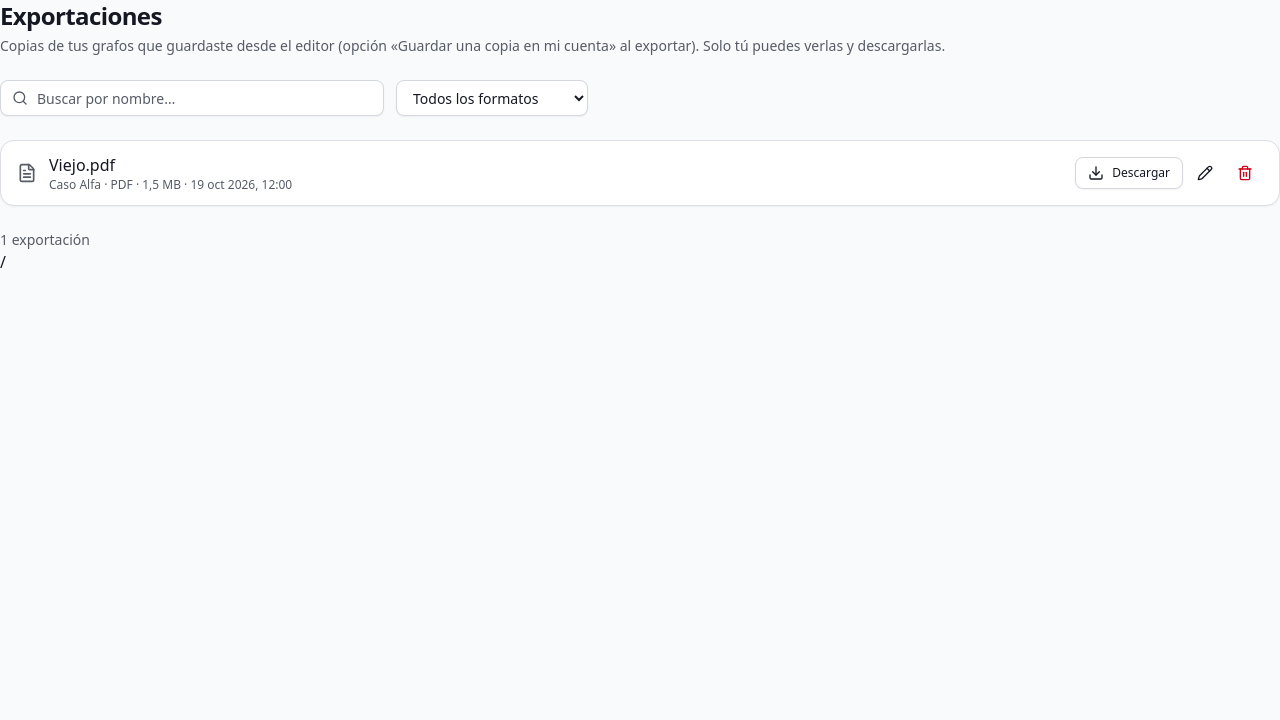
ExportsPage › renombrar envía solo el nombre nuevo (sin extensión) y refresca la lista
The width and height of the screenshot is (1280, 720).
Click the button named "Renombrar Viejo.pdf" at (1205, 173), box [1187,155,1223,191]
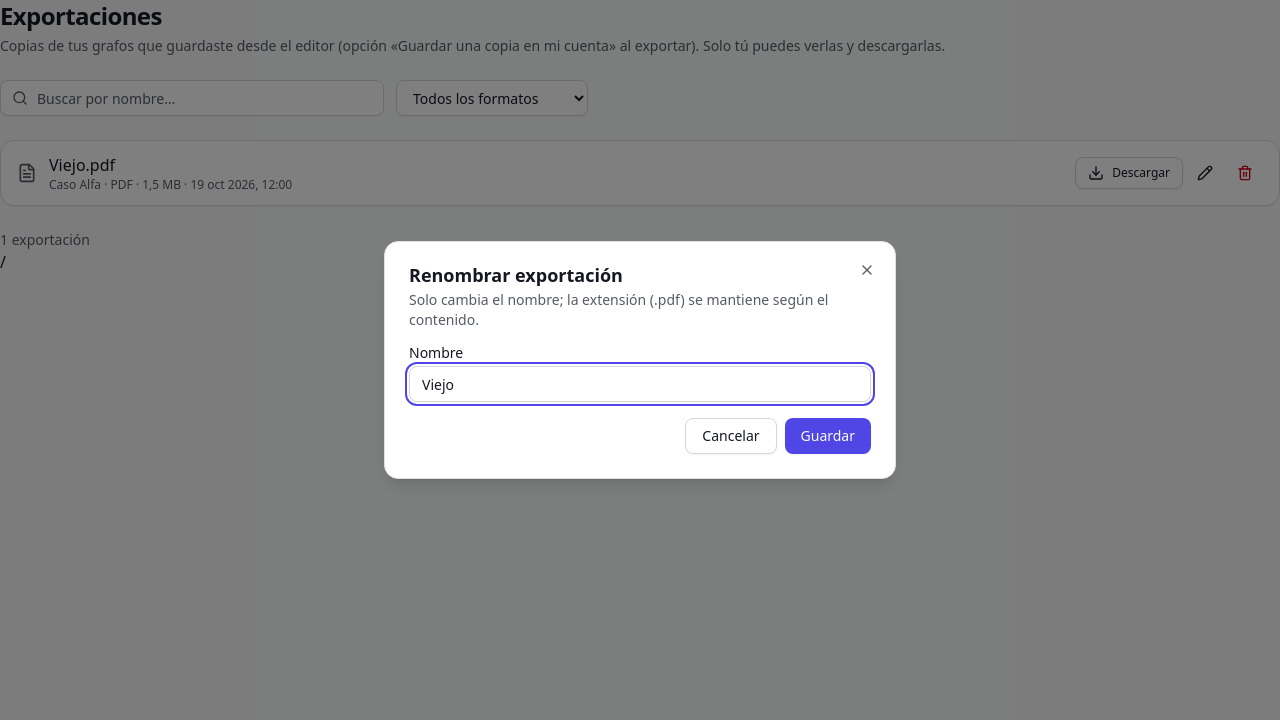
Expected: the field labelled "Nombre" holds "Viejo"
Replace the text in the field labelled "Nombre" with "  Nuevo  " at (640, 384), box [409,366,871,402]
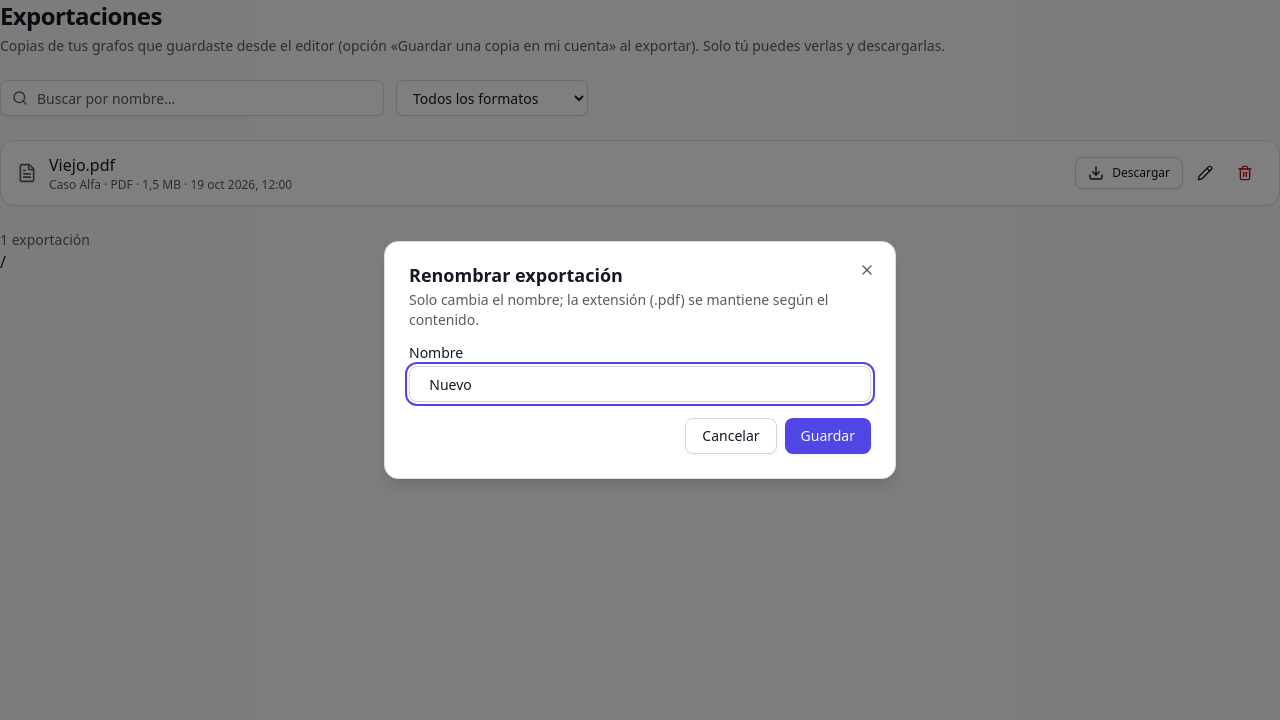
Click the button "Guardar" at (828, 436), box [784,418,871,454]
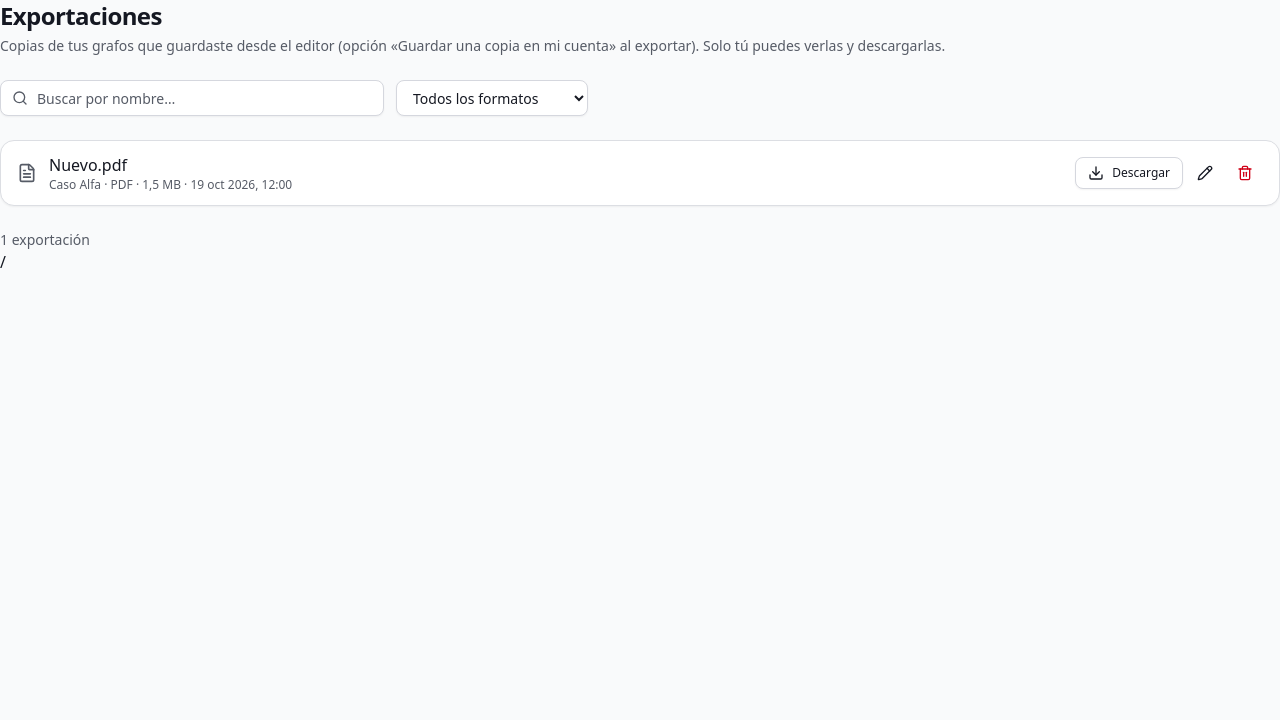
Expected: the text "Nuevo.pdf" is shown, [49,154,127,176]
Expected: the dialog is gone
